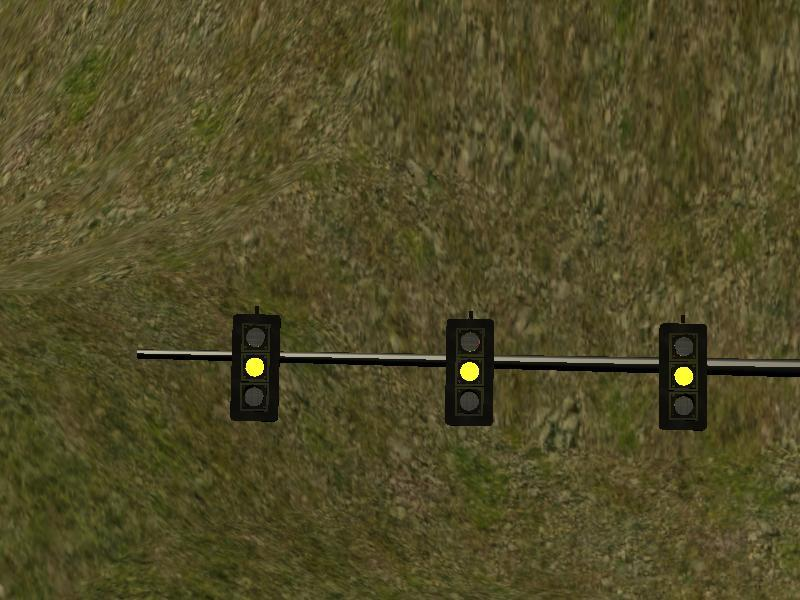Yellow: (230, 314, 281, 422), (445, 317, 495, 426), (658, 321, 708, 430)
